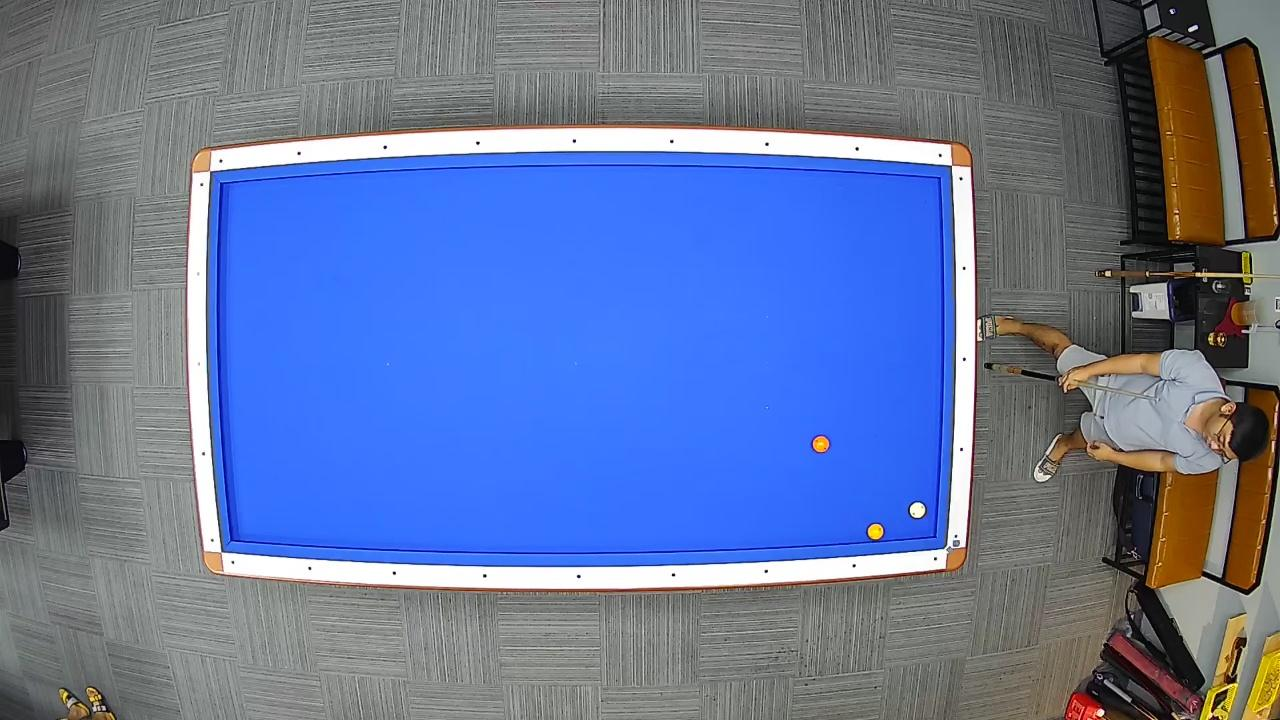Orange: (810, 435, 830, 454)
White: (908, 501, 926, 520)
Yellow: (865, 523, 886, 542)
